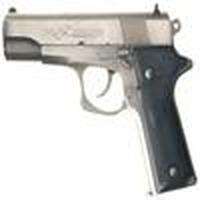gun: (5, 9, 200, 191)
